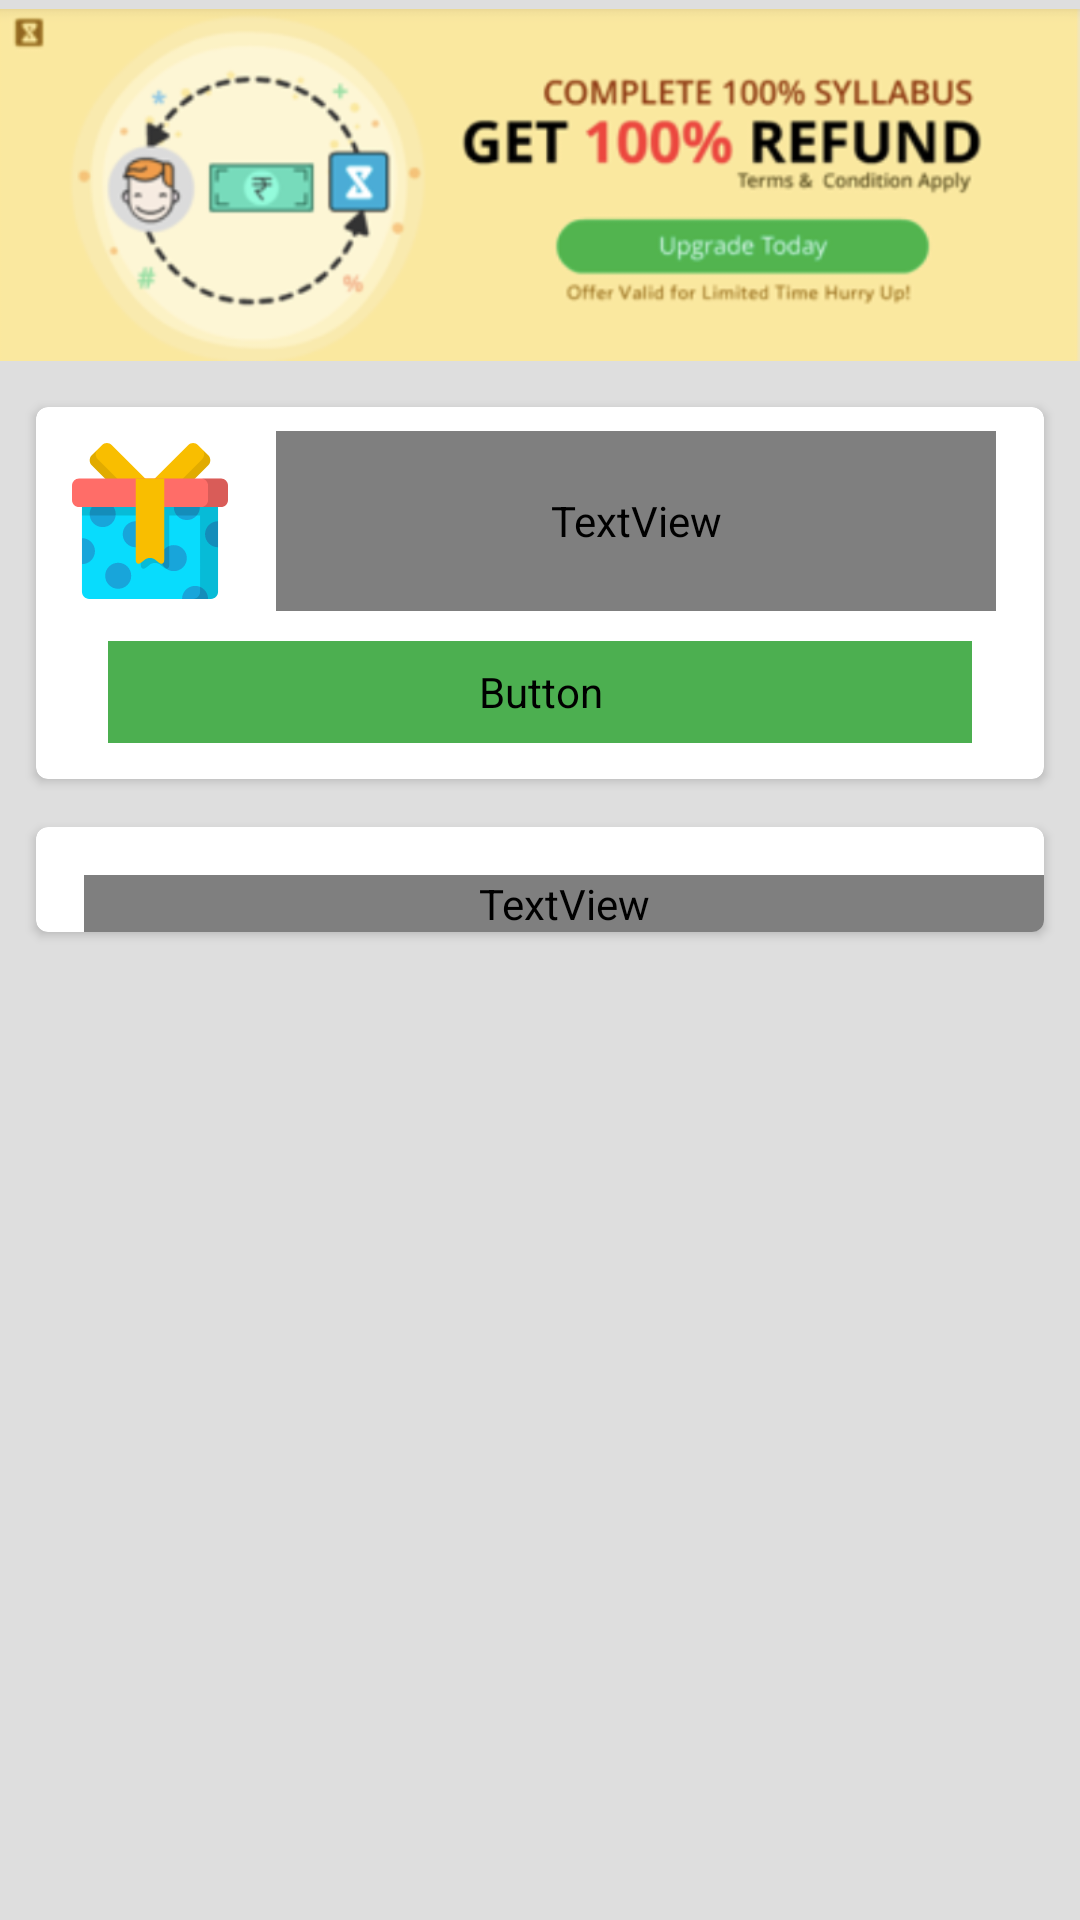

Point at icon controls on the screen. Image size 1080px×1920px, points as [x,y].
giftbox: [150,521]
